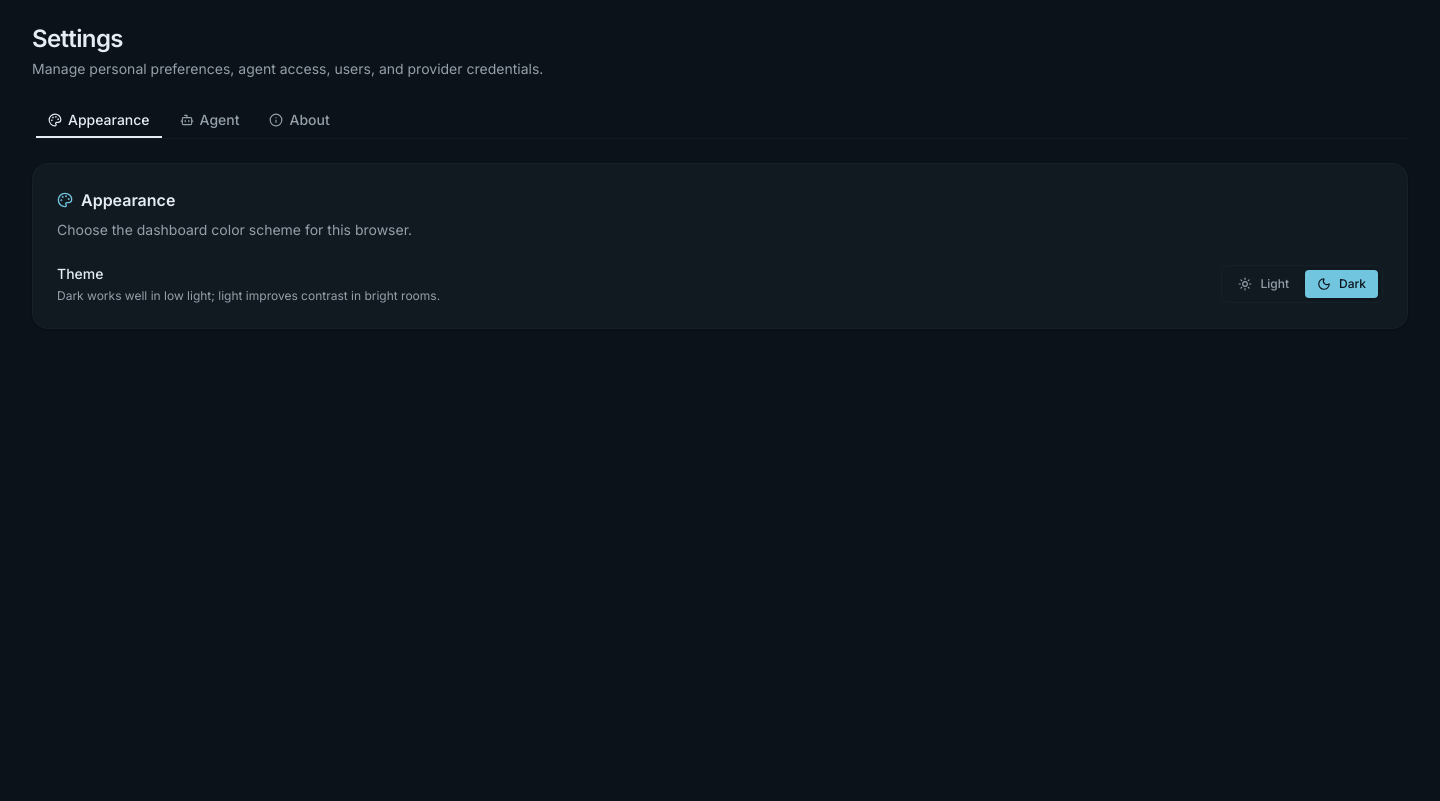
Test: Settings page › renders tab navigation and switches from Appearance to Agent
The width and height of the screenshot is (1440, 801).
Expected: the element with test id "settings-appearance" is shown, [32,163,1408,329]
Click the tab with test id "settings-tab-agent" at (210, 120), box [167,106,252,134]
(page scrolled)
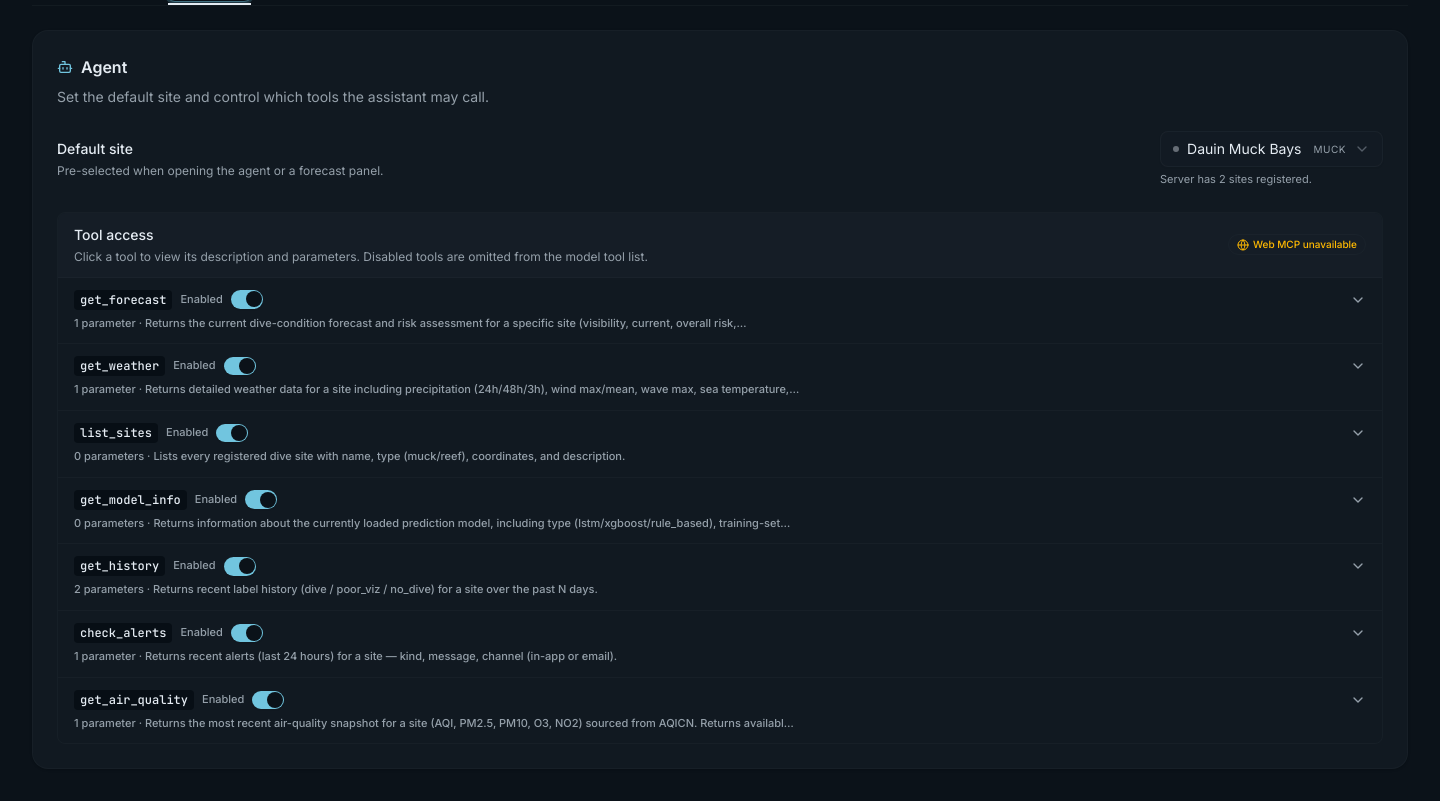
Expected: the element with test id "settings-agent" is shown
Expected: the element with test id "settings-tools" is shown
